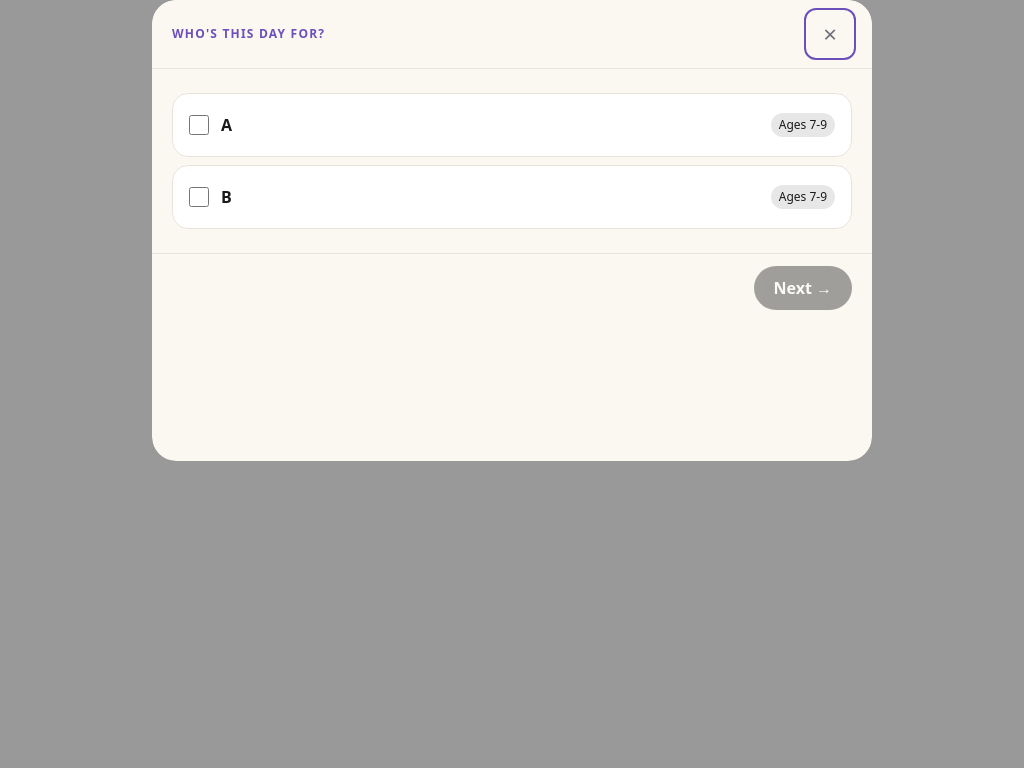
Test: PlanThisDayWizard › disables Next until at least one kid is selected
Check: the button "Next →" is disabled, box x1=754 y1=266 x2=852 y2=310
Click the checkbox labelled "A". click: (199, 125)
box: x1=189 y1=115 x2=209 y2=135
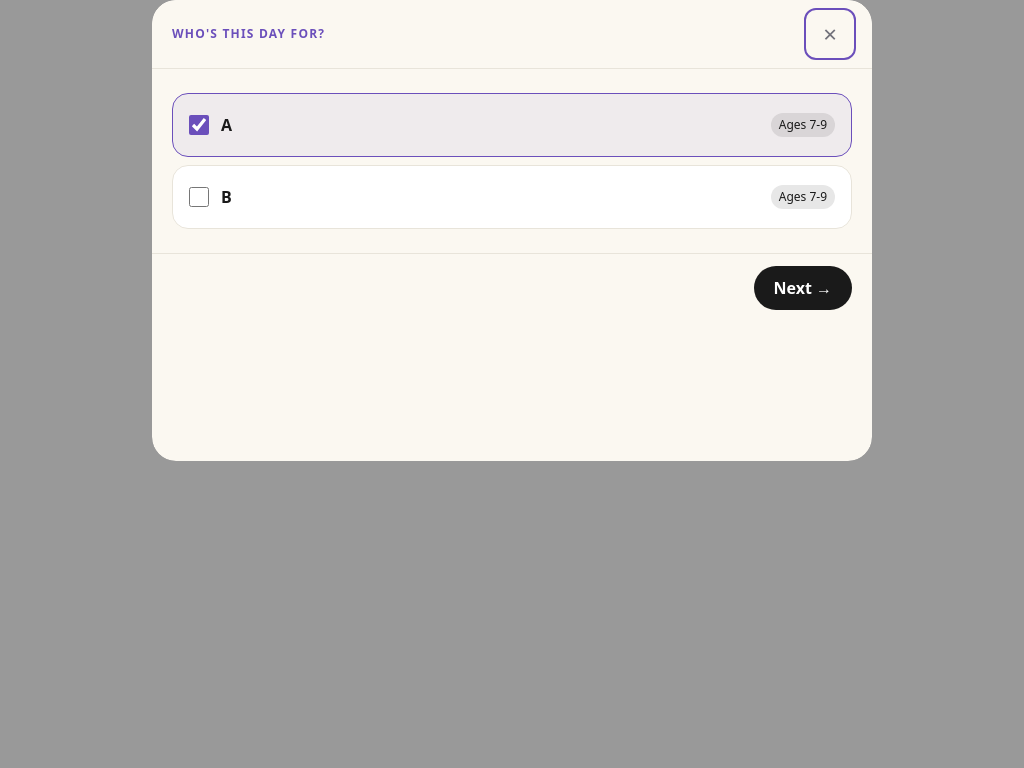
Check: the button "Next →" is enabled, box x1=754 y1=266 x2=852 y2=310
